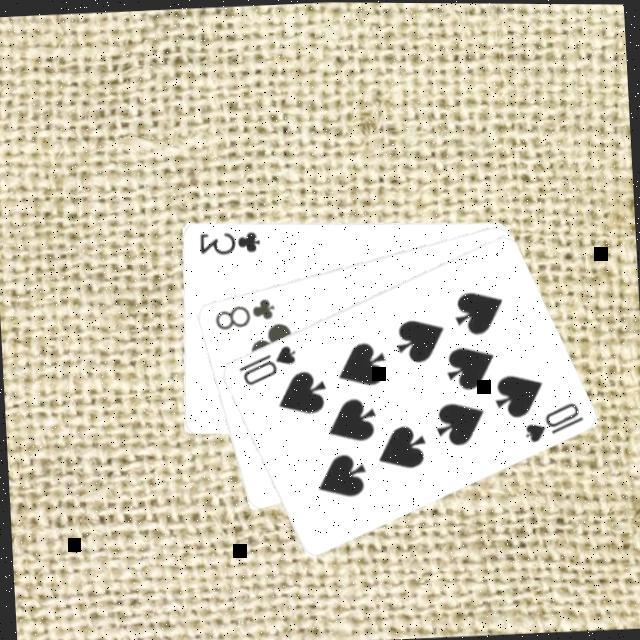10S: (517, 398, 585, 446), (232, 342, 298, 389)
3C: (194, 227, 262, 260)
8C: (208, 296, 276, 334)
